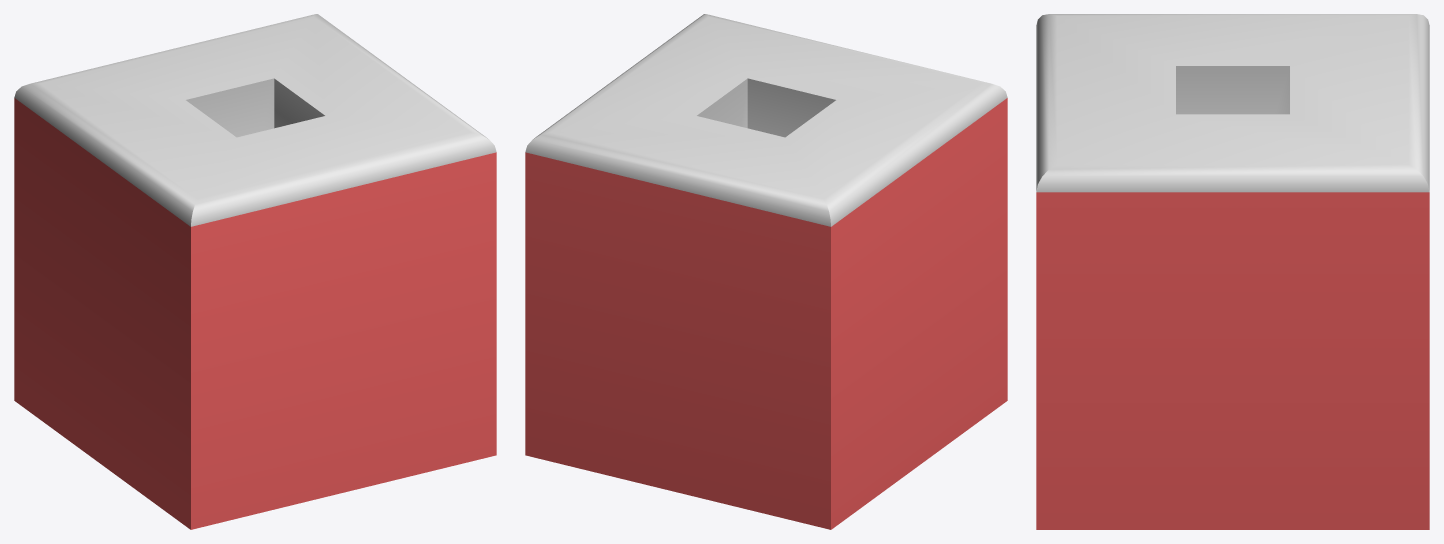
Rendered from CubeForTile_04.1_Hole.fbx.
3 renders of one model, left to right at view 1: azimuth 30°, elevation 25°; view 2: azimuth 150°, elevation 25°; view 3: azimuth 270°, elevation 25°, orthographic. The views are drawn at different scales.
Visible parts, largest first — view 1: CubeForTile_04.1_Hole; view 2: CubeForTile_04.1_Hole; view 3: CubeForTile_04.1_Hole.
Part boxes in pixels (x1,y1,x2,y2): CubeForTile_04.1_Hole: (14,14,496,529); CubeForTile_04.1_Hole: (525,14,1007,529); CubeForTile_04.1_Hole: (1036,14,1429,529).
Size of the model in its own units: 200 by 200 by 200.
